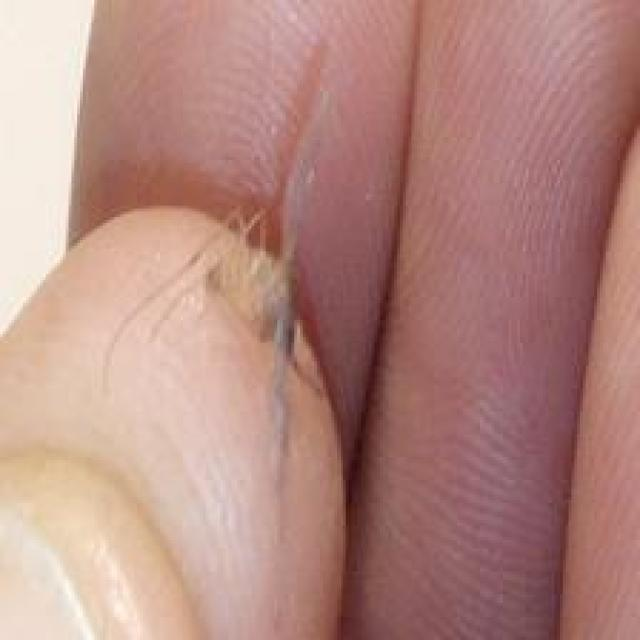Culex: (0, 48, 351, 640)
